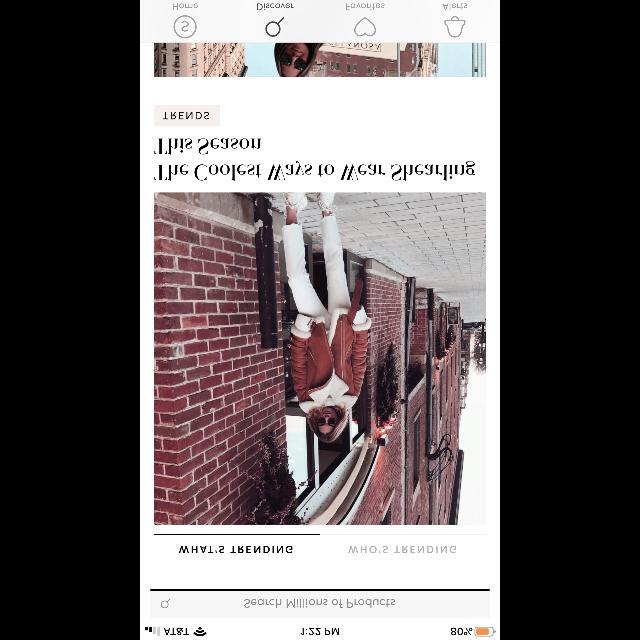icon: (444, 16, 466, 38), (354, 18, 376, 36), (266, 17, 284, 37), (162, 598, 170, 608)
image: (154, 193, 486, 525), (154, 43, 486, 77), (174, 16, 196, 38)
input: (150, 588, 490, 618)
text: (154, 138, 476, 180), (244, 598, 396, 608), (348, 545, 456, 553), (180, 546, 292, 552), (346, 4, 384, 10), (258, 4, 294, 10), (174, 4, 198, 10), (443, 4, 467, 10)
textbutton: (154, 104, 220, 126)
uppertaskbar: (140, 626, 500, 640)
